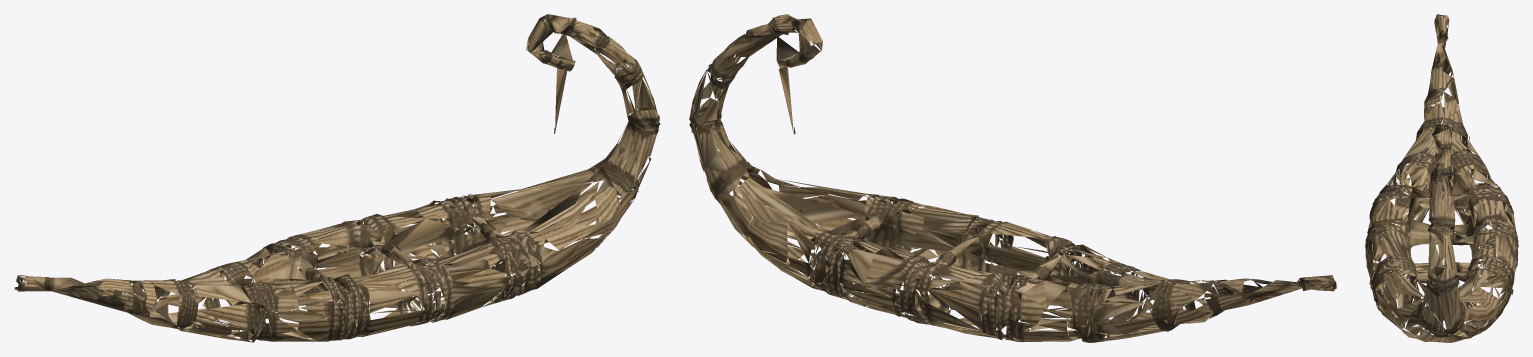
Rendered from schilfboot.glb.
The picture shows the model from 3 angles, left to right: view 1: azimuth 30°, elevation 25°; view 2: azimuth 150°, elevation 25°; view 3: azimuth 270°, elevation 25°; orthographic projection. The views are drawn at different scales.
Size of the model in its own units: 1.9 by 0.6995 by 0.4468.
Materials: 1 (1 with a texture image).
